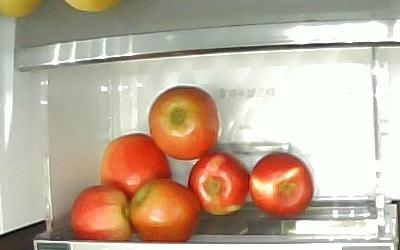apple: (147, 84, 220, 160), (98, 132, 173, 201), (127, 177, 201, 243), (247, 150, 314, 219), (186, 150, 250, 215), (68, 183, 133, 242)
